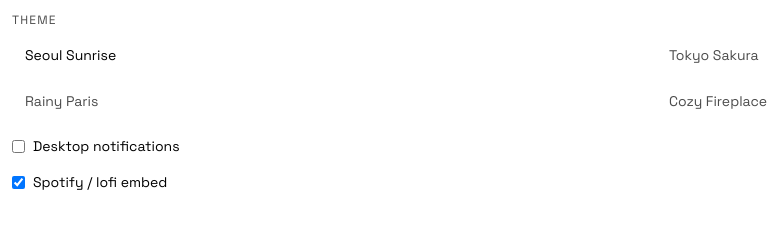
Scenario: SettingsTabGeneral › should_not_emit_and_should_show_note_when_permission_denied
What coordinates should you click on to do the following:
click the checkbox labelled "Desktop notifications"
I would click on:
 (18, 146)
Its box is [12,140,25,152].
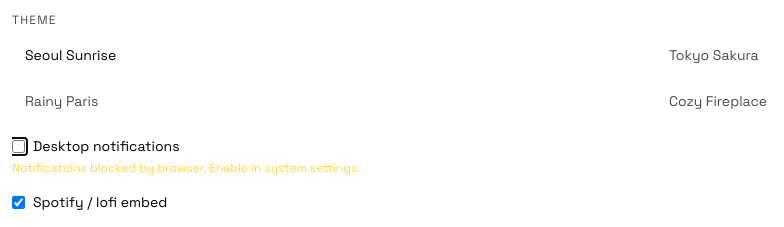
Result: the text "Notifications blocked by browser. Enable in system settings." is shown at [12,160,360,176]
